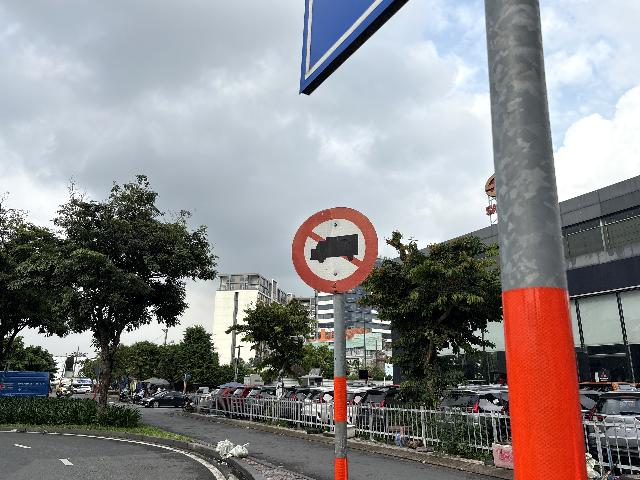cam-xe-tai: (292, 207, 379, 295)
